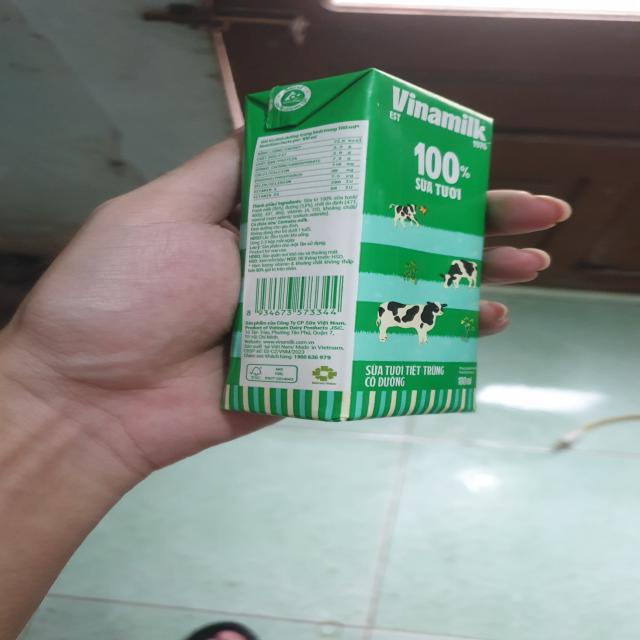Vina: (221, 66, 499, 425)
